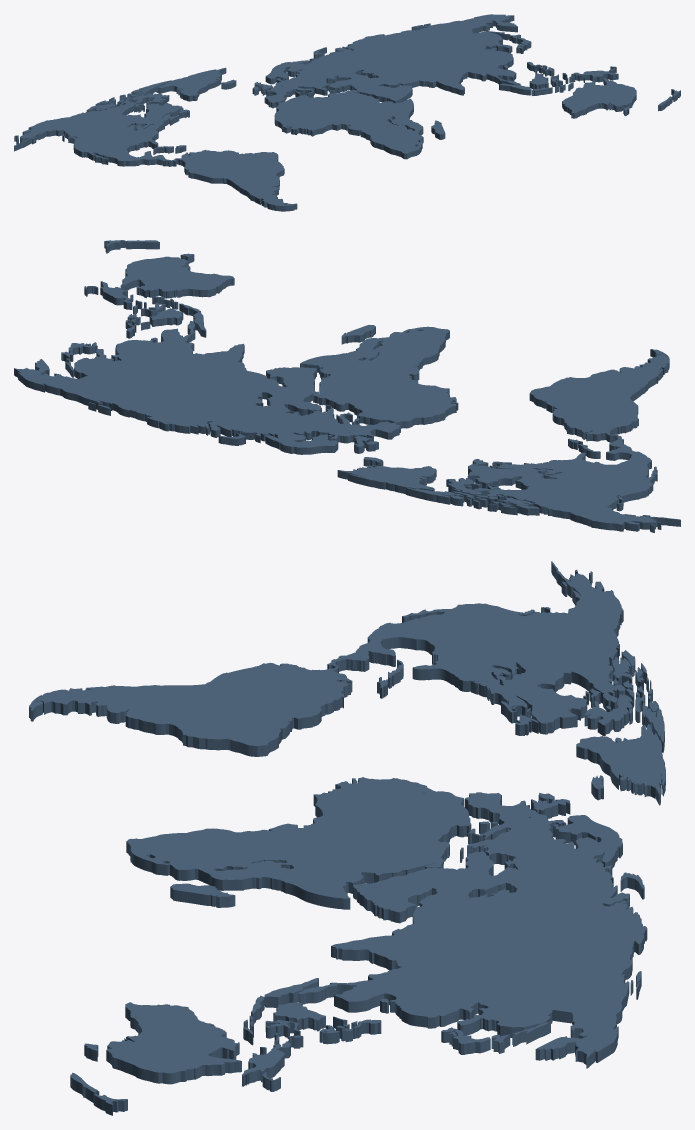
File: Countries.fbx
3 views of the same model, one above another, from view 1: azimuth 30°, elevation 25°; view 2: azimuth 150°, elevation 25°; view 3: azimuth 270°, elevation 25° (orthographic). The views are drawn at different scales.
Visible parts, largest first — view 1: Rusia, Canadá, Estados Unidos de América, China, Australia, Brasil, Groenlandia, Indonesia, India, México, Kazajistán, Argentina (+13 smaller); view 2: Rusia, Canadá, Estados Unidos de América, Australia, China, Brasil, Groenlandia, Indonesia, Kazajistán, India, Argentina, México (+21 smaller); view 3: Rusia, Canadá, Estados Unidos de América, China, Brasil, Australia, Groenlandia, Argentina, India, Indonesia, Kazajistán, México (+30 smaller).
Part boxes in pixels (x1,y1,x2,y2): Rusia: (289,14,517,80); Canadá: (55,80,189,143); Estados Unidos de América: (14,117,168,157); China: (409,36,513,70); Australia: (562,78,636,118); Brasil: (202,151,284,185); Groenlandia: (156,67,226,101); Indonesia: (499,73,584,95); India: (418,64,471,95); México: (88,149,151,166); Kazajistán: (347,54,413,77); Argentina: (239,177,297,209); Rusia: (14,357,316,449); Canadá: (405,459,623,520); Estados Unidos de América: (507,452,680,532); Australia: (120,253,234,298); China: (85,337,217,390); Brasil: (529,370,624,420); Groenlandia: (337,465,436,493); Indonesia: (130,294,206,337); Kazajistán: (183,385,267,412); India: (174,343,244,377); Argentina: (601,349,664,391); México: (606,448,657,484); Rusia: (490,837,647,1068); Canadá: (493,607,664,752); Estados Unidos de América: (412,561,623,705); China: (380,929,546,1028); Brasil: (131,676,317,756); Australia: (84,1002,241,1084); Groenlandia: (576,724,665,805); Argentina: (30,687,188,723); India: (331,926,461,975); Indonesia: (243,978,325,1054); Kazajistán: (487,880,555,943); México: (362,609,449,666).
Size of the model in its own units: 214 by 2.01 by 106.
